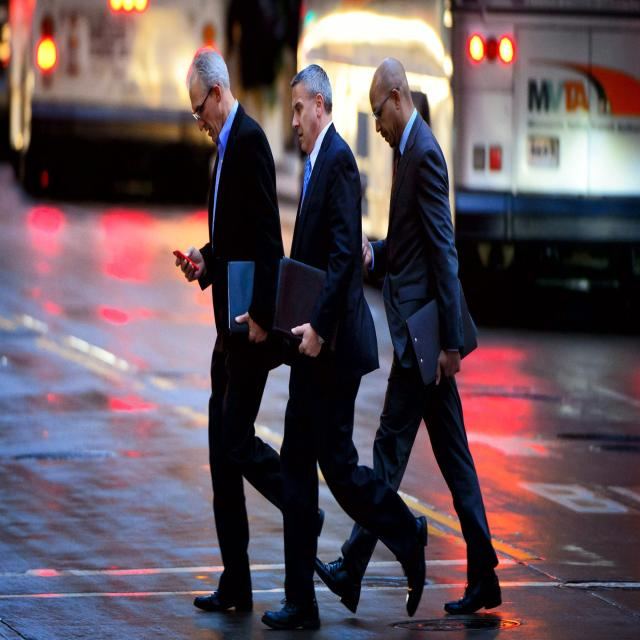body: (311, 57, 503, 620), (260, 61, 430, 634), (172, 39, 326, 620)
